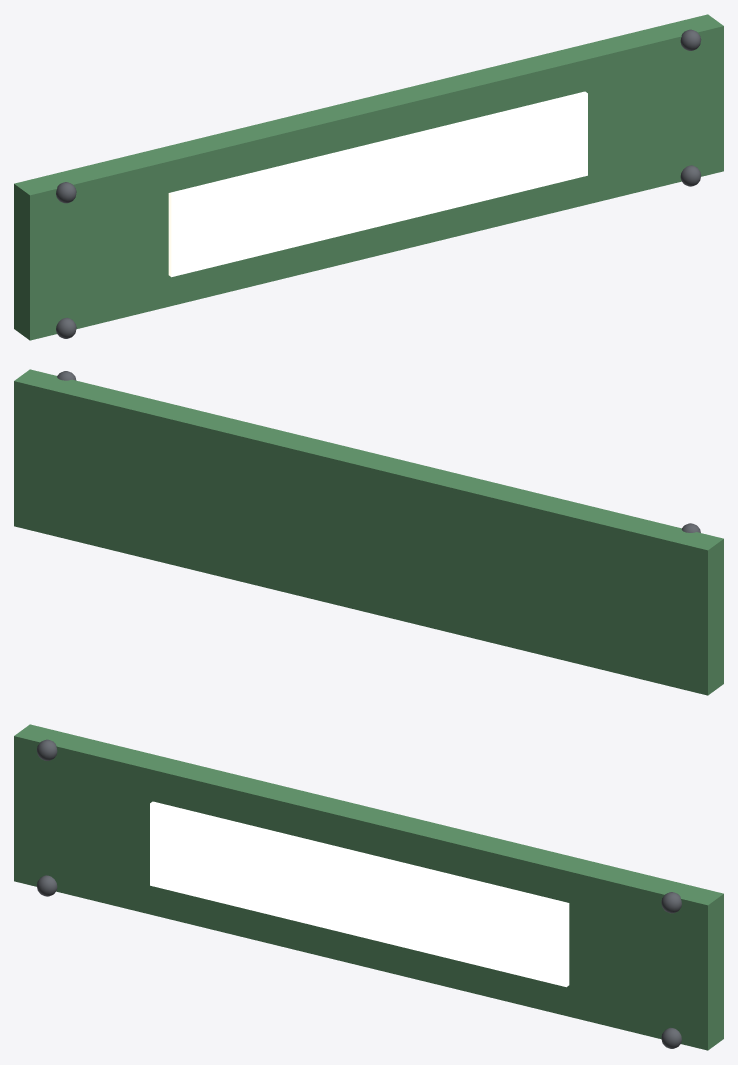
Rendered from prop_kanban_wall_long.glb.
3 renders of one model, top to bottom at view 1: azimuth 30°, elevation 25°; view 2: azimuth 150°, elevation 25°; view 3: azimuth 330°, elevation 25°, orthographic.
Parts seen in each view (by area): view 1: kanban_wall_long; view 2: kanban_wall_long; view 3: kanban_wall_long.
Boxes of the visible parts, x1,y1,x2,y2 form: kanban_wall_long: [14, 14, 723, 340]; kanban_wall_long: [14, 369, 723, 695]; kanban_wall_long: [14, 724, 723, 1050].
Bounding box in the file's own units: 3 × 0.64 × 0.17.
